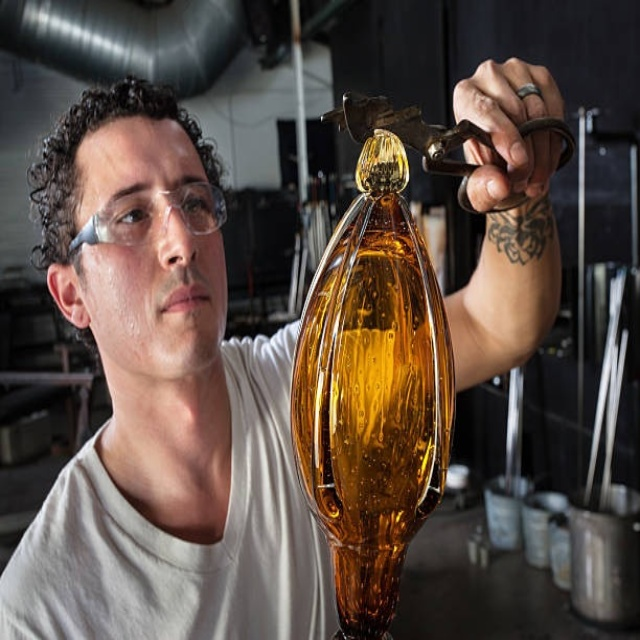Gafas: (68, 182, 231, 254)
Sin_guantes: (442, 56, 570, 216)
Sin_mascara: (142, 269, 221, 358)
